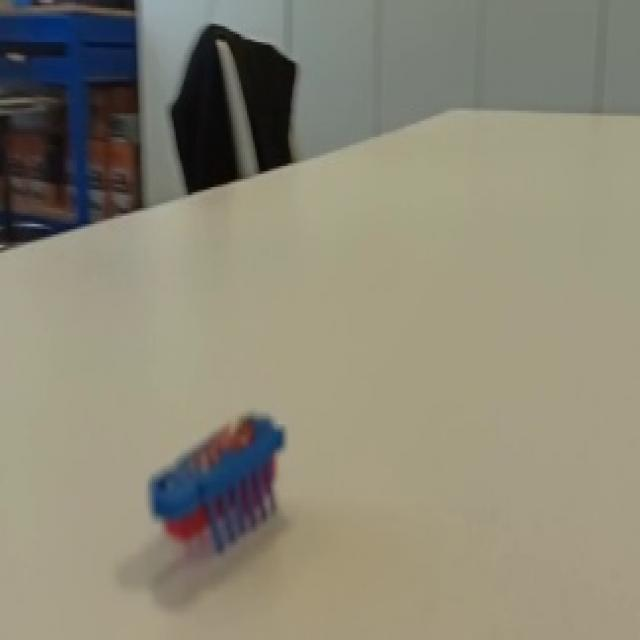1_NanoBug_Azul: (113, 379, 346, 606)
